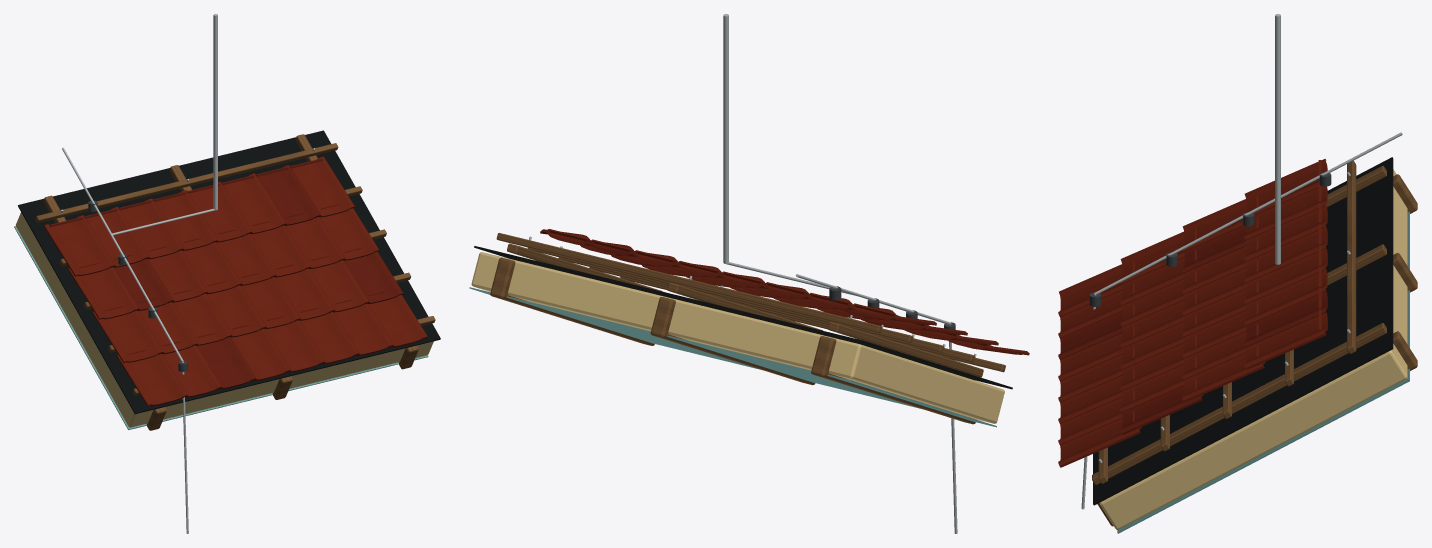
File: modell.glb
3 views of the same model, side by side, from view 1: azimuth 30°, elevation 25°; view 2: azimuth 150°, elevation 25°; view 3: azimuth 270°, elevation 25° (orthographic). The views are drawn at different scales.
Visible parts, largest first — view 1: a04-deckziegel_deckung, a04-zusatzebene_zusatzebene, a04-deckziegel_deckung.001, a04-daemmung_daemmung, a04-lattung_lattung, a04-luftdichtheit_luftdichtheit, a04-ableitung_, a04-fangeinrichtung_, a04-sparren_tragwerk; view 2: a04-daemmung_daemmung, a04-lattung_lattung, a04-deckziegel_deckung, a04-sparren_tragwerk, a04-luftdichtheit_luftdichtheit, a04-zusatzebene_zusatzebene, a04-fangeinrichtung_, a04-ableitung_, a04-deckziegel_deckung.001; view 3: a04-deckziegel_deckung, a04-zusatzebene_zusatzebene, a04-daemmung_daemmung, a04-lattung_lattung, a04-deckziegel_deckung.001, a04-luftdichtheit_luftdichtheit, a04-fangeinrichtung_, a04-sparren_tragwerk, a04-ableitung_, a04-halter_.
Boxes of the visible parts, box(x1,y1,x2,y2) form: a04-deckziegel_deckung: box(44, 156, 428, 406); a04-zusatzebene_zusatzebene: box(18, 130, 440, 413); a04-deckziegel_deckung.001: box(114, 165, 403, 389); a04-daemmung_daemmung: box(16, 212, 433, 427); a04-lattung_lattung: box(35, 134, 435, 395); a04-luftdichtheit_luftdichtheit: box(14, 226, 428, 429); a04-ableitung_: box(62, 147, 215, 361); a04-fangeinrichtung_: box(213, 14, 217, 210); a04-sparren_tragwerk: box(147, 345, 418, 430); a04-daemmung_daemmung: box(471, 252, 1004, 423); a04-lattung_lattung: box(496, 233, 1005, 377); a04-deckziegel_deckung: box(540, 229, 1029, 355); a04-sparren_tragwerk: box(490, 257, 975, 424); a04-luftdichtheit_luftdichtheit: box(469, 287, 996, 427); a04-zusatzebene_zusatzebene: box(474, 246, 1012, 389); a04-fangeinrichtung_: box(723, 14, 728, 263); a04-ableitung_: box(726, 262, 951, 324); a04-deckziegel_deckung.001: box(584, 240, 903, 329); a04-deckziegel_deckung: box(1058, 159, 1327, 467); a04-zusatzebene_zusatzebene: box(1093, 157, 1393, 505); a04-daemmung_daemmung: box(1100, 169, 1407, 529); a04-lattung_lattung: box(1092, 160, 1386, 485); a04-deckziegel_deckung.001: box(1058, 226, 1327, 434); a04-luftdichtheit_luftdichtheit: box(1117, 211, 1409, 533); a04-fangeinrichtung_: box(1275, 14, 1280, 264); a04-sparren_tragwerk: box(1097, 174, 1417, 526); a04-ableitung_: box(1094, 132, 1402, 294); a04-halter_: box(1089, 172, 1331, 306).
Bounding box in the file's own units: 2.14 × 2.92 × 1.71.
Materials: 8 (3 with a texture image).
